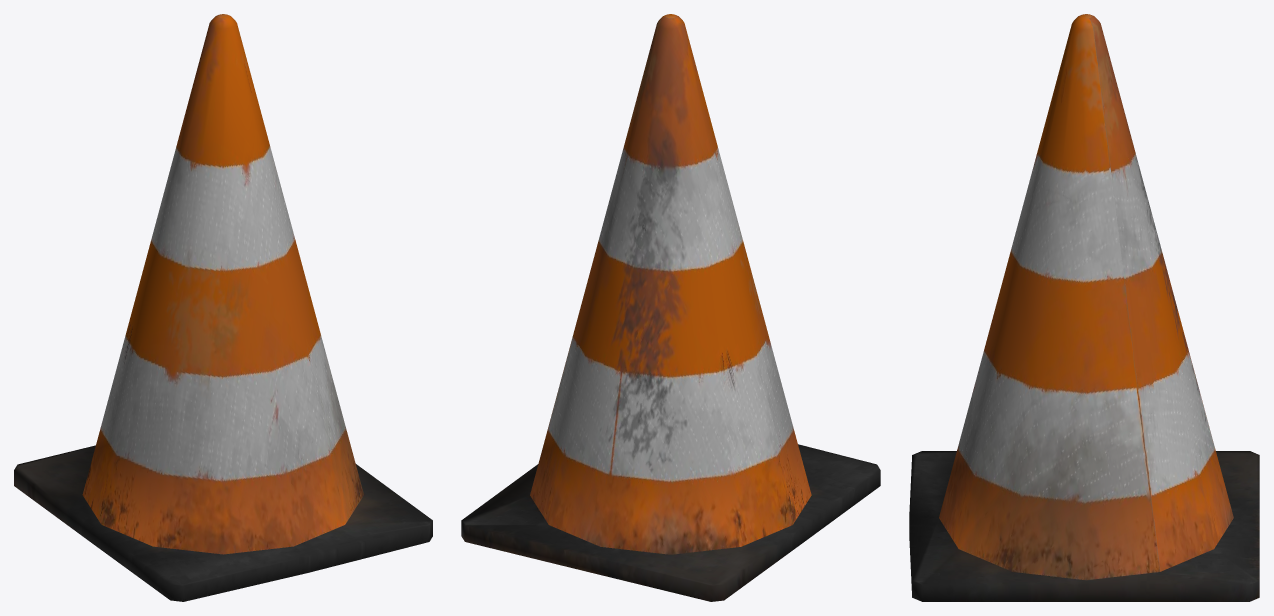
The model's file is cone_orange_01.glb.
3 views of the same model, side by side, from view 1: azimuth 30°, elevation 25°; view 2: azimuth 150°, elevation 25°; view 3: azimuth 270°, elevation 25° (orthographic). The views are drawn at different scales.
Parts seen in each view (by area): view 1: Cone; view 2: Cone; view 3: Cone.
Part boxes in pixels (<box>): Cone: <box>14,14,432,601</box>; Cone: <box>461,14,880,601</box>; Cone: <box>909,14,1259,601</box>.
Bounding box in the file's own units: 2.16 × 3.88 × 2.38.
Materials: 1 (1 with a texture image).
